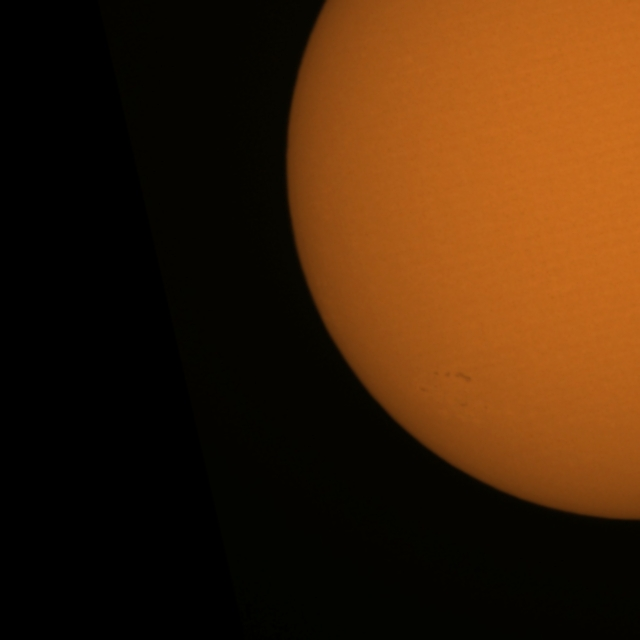sunspot: (433, 370, 474, 383)
